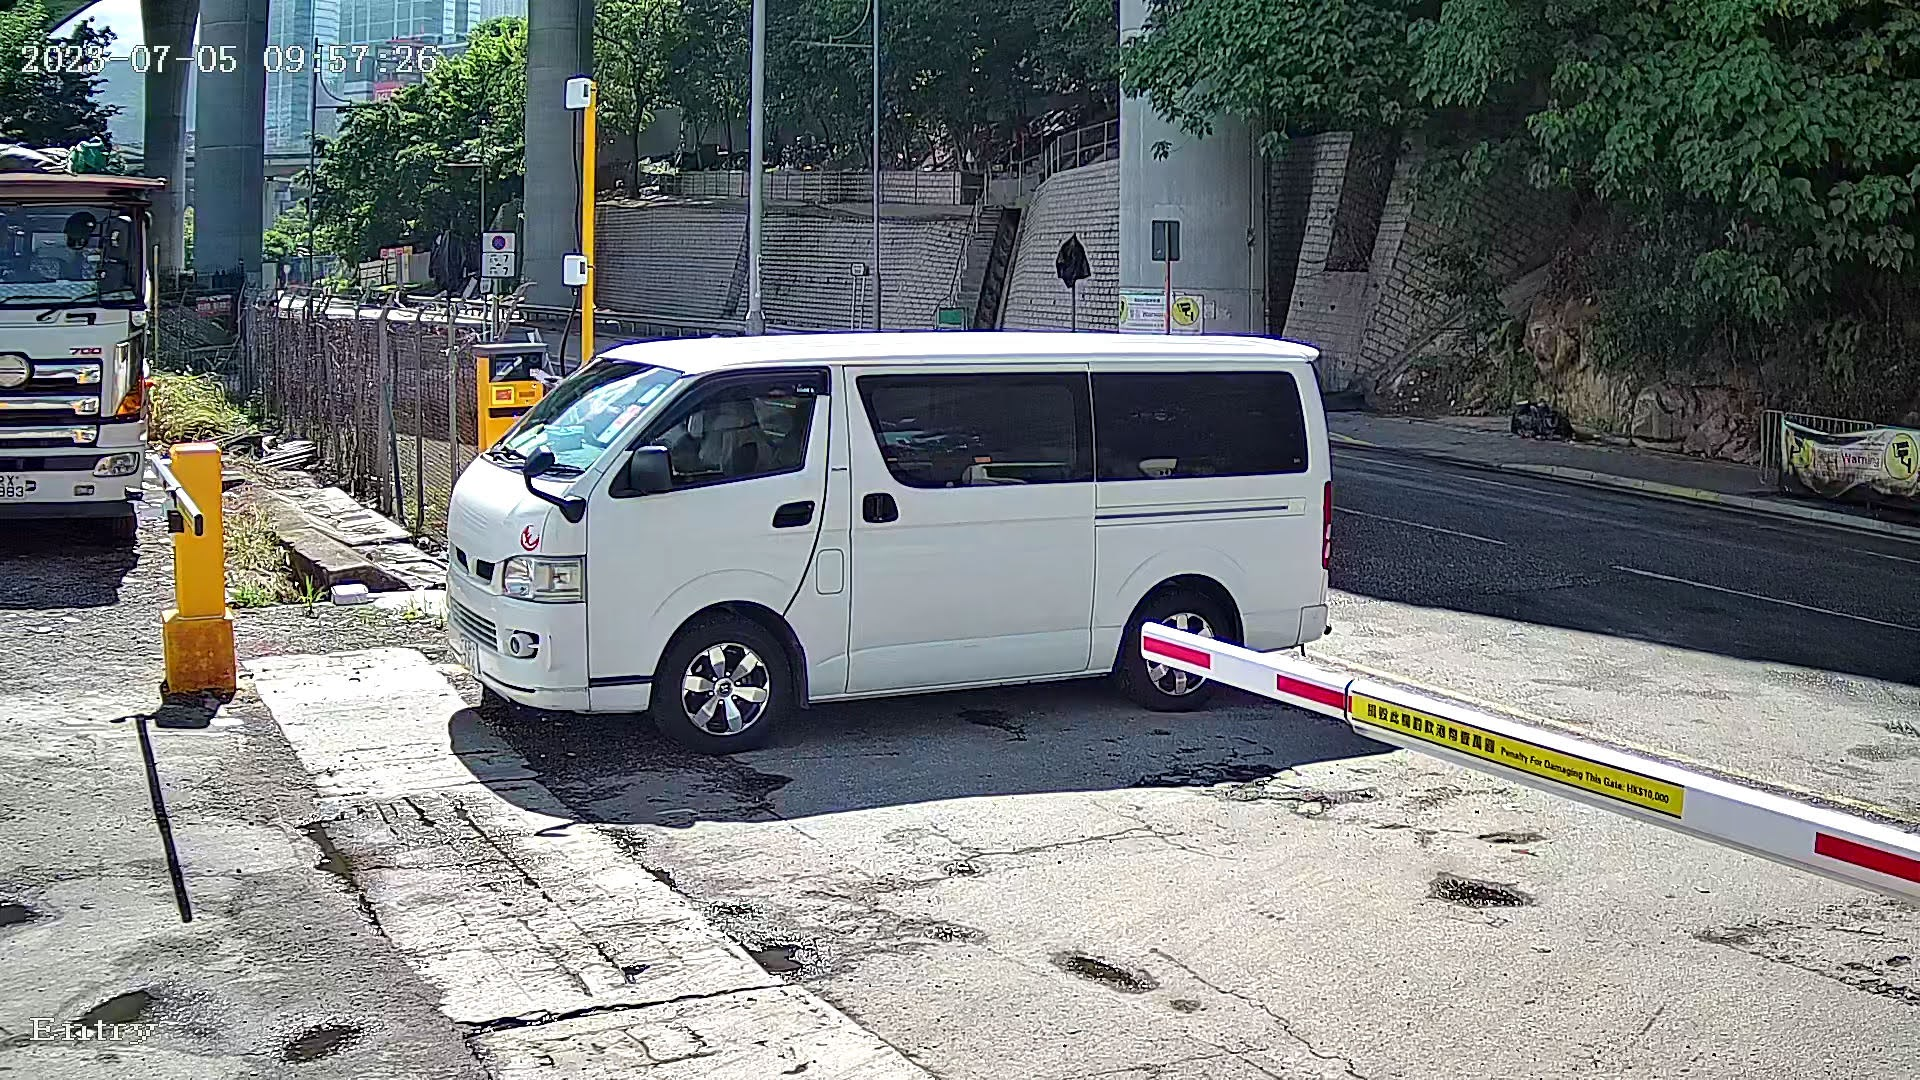privatecar: (411, 218, 1371, 796)
